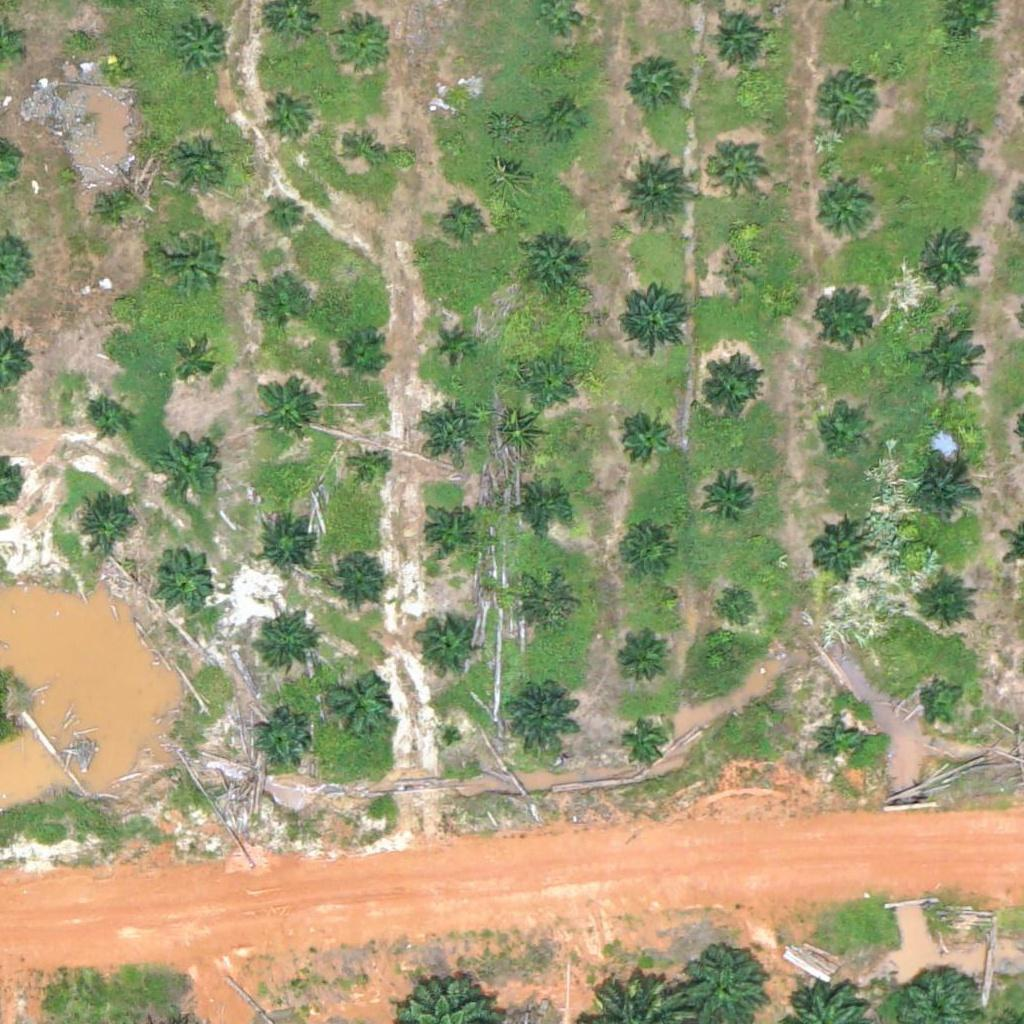Kelapa_Sawit: (156, 217, 231, 293), (910, 326, 985, 402), (503, 679, 578, 755), (317, 666, 392, 742), (615, 160, 690, 235), (617, 274, 692, 349), (908, 458, 983, 533), (416, 396, 479, 459), (153, 437, 216, 500), (697, 358, 760, 421), (702, 465, 765, 528), (250, 614, 313, 677), (149, 546, 212, 609), (417, 615, 480, 678), (249, 711, 312, 774), (916, 576, 979, 639), (808, 524, 871, 587), (252, 378, 314, 441), (520, 234, 582, 297), (622, 51, 684, 114), (167, 134, 229, 197), (705, 8, 767, 71), (815, 288, 877, 351), (918, 230, 980, 293), (813, 72, 875, 135), (817, 183, 879, 246), (707, 137, 769, 200), (516, 574, 578, 637), (72, 491, 134, 554), (172, 21, 234, 83), (257, 516, 319, 578), (324, 544, 386, 606), (522, 361, 572, 412), (617, 412, 667, 463), (621, 525, 671, 576), (921, 674, 971, 725), (815, 716, 865, 767), (714, 583, 764, 634), (517, 483, 567, 533), (338, 21, 388, 71), (251, 284, 301, 334), (816, 406, 866, 456), (616, 636, 666, 686), (421, 506, 471, 556), (931, 123, 981, 173), (622, 717, 672, 767), (337, 331, 387, 381), (168, 340, 218, 390), (83, 397, 133, 447), (91, 180, 141, 230), (263, 93, 313, 143), (353, 452, 391, 490), (266, 195, 304, 233), (441, 89, 479, 127), (347, 131, 385, 169), (546, 105, 583, 143), (721, 254, 758, 292), (432, 327, 469, 365), (446, 203, 484, 240), (100, 55, 125, 80), (107, 290, 132, 315)
